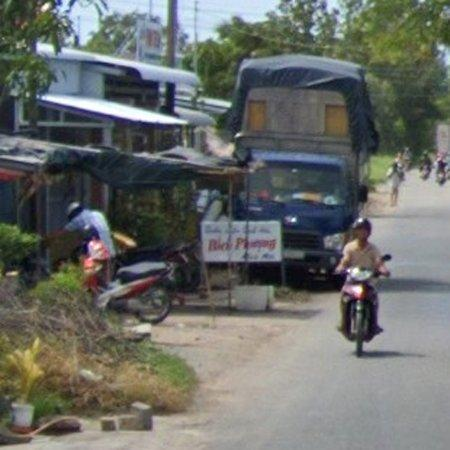motorcycles: (81, 237, 173, 324), (342, 267, 380, 357)
